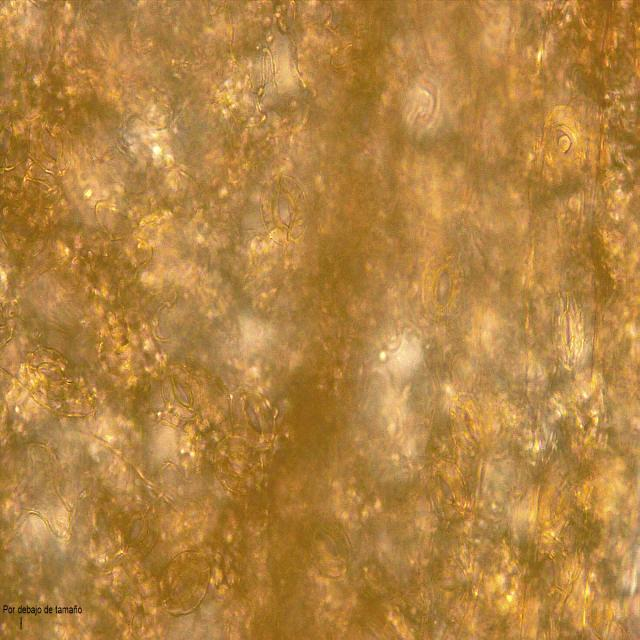Stomata: (159, 548, 212, 617), (261, 173, 309, 244), (213, 435, 264, 496), (542, 105, 588, 171), (421, 252, 464, 322), (231, 383, 274, 452), (305, 514, 351, 578), (550, 290, 586, 371), (113, 500, 159, 561), (28, 114, 73, 176), (449, 391, 492, 455), (426, 458, 467, 522), (27, 347, 75, 400), (161, 366, 202, 418), (0, 105, 31, 171)
